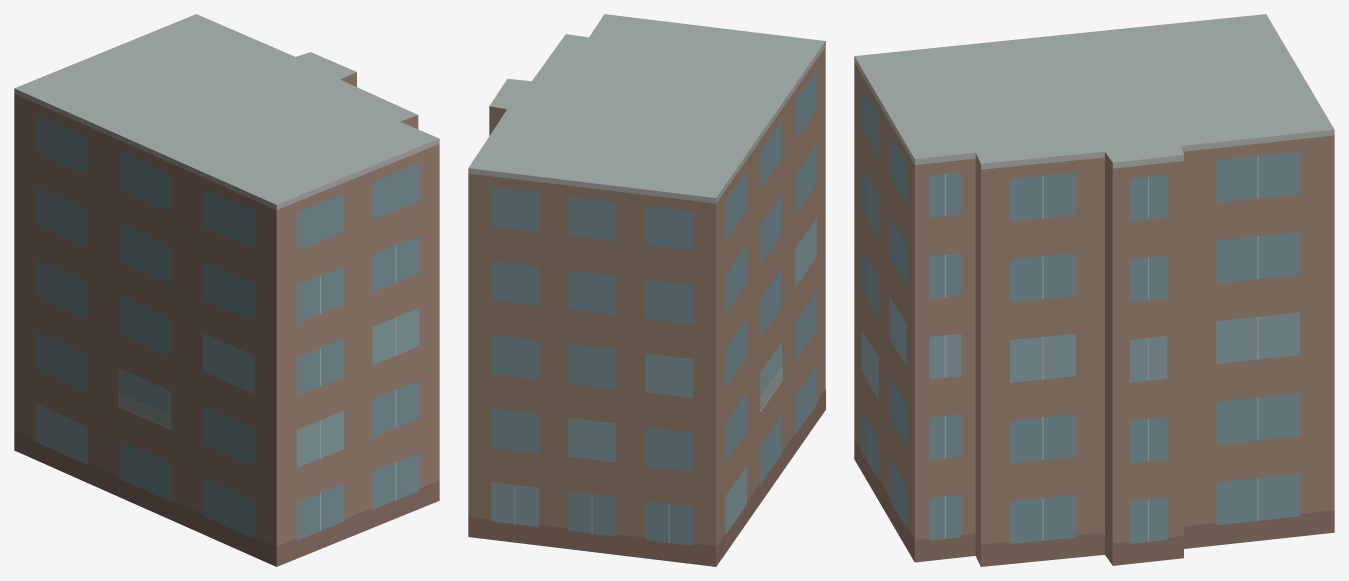
Rendered from survey-upis-32562704.glb.
The picture shows the model from 3 angles, left to right: view 1: azimuth 30°, elevation 25°; view 2: azimuth 150°, elevation 25°; view 3: azimuth 270°, elevation 25°; orthographic projection. The views are drawn at different scales.
Visible parts, largest first — view 1: survey-upis-32562704.tmp; view 2: survey-upis-32562704.tmp; view 3: survey-upis-32562704.tmp.
Boxes of the visible parts, x1,y1,x2,y2 form: survey-upis-32562704.tmp: [14, 14, 439, 566]; survey-upis-32562704.tmp: [468, 14, 825, 566]; survey-upis-32562704.tmp: [854, 14, 1334, 566].
Size of the model in its own units: 13.48 by 16.9 by 18.26.
